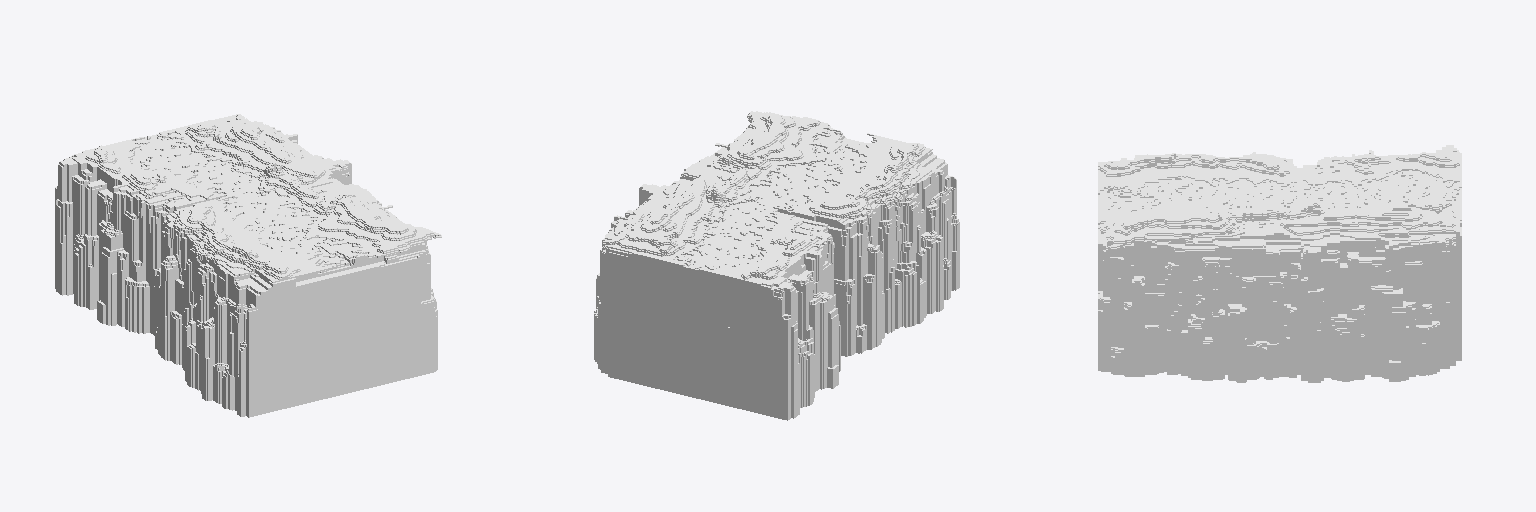
The model's file is factory4.1-18.obj.
3 renders of one model, left to right at view 1: azimuth 30°, elevation 25°; view 2: azimuth 150°, elevation 25°; view 3: azimuth 270°, elevation 25°, orthographic.
Parts seen in each view (by area): view 1: object 1; view 2: object 1; view 3: object 1.
Boxes of the visible parts, box(x1,y1,x2,y2) form: object 1: box(55, 114, 441, 417); object 1: box(594, 111, 959, 420); object 1: box(1098, 145, 1461, 382).
Size of the model in its own units: 18.4 by 11.1 by 25.6.